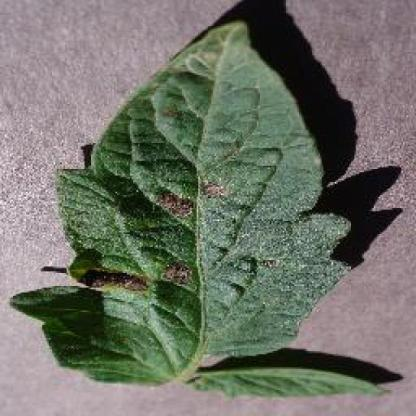Tomato_Blight: (12, 23, 390, 398)
